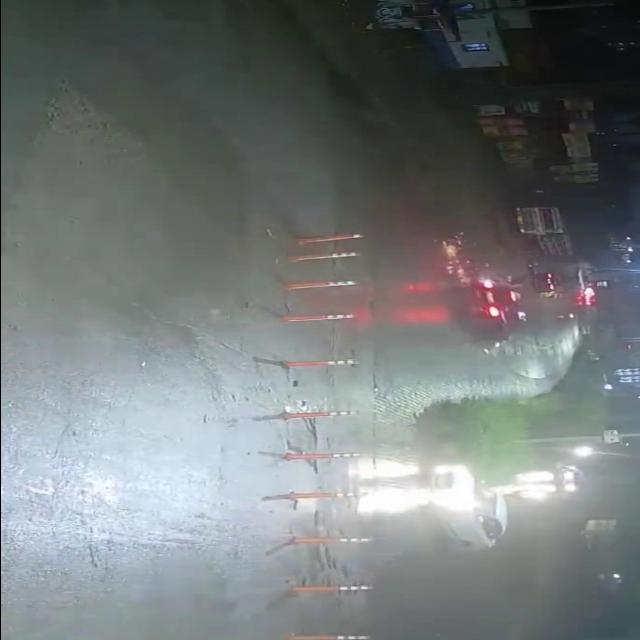accident: (415, 229, 533, 351)
